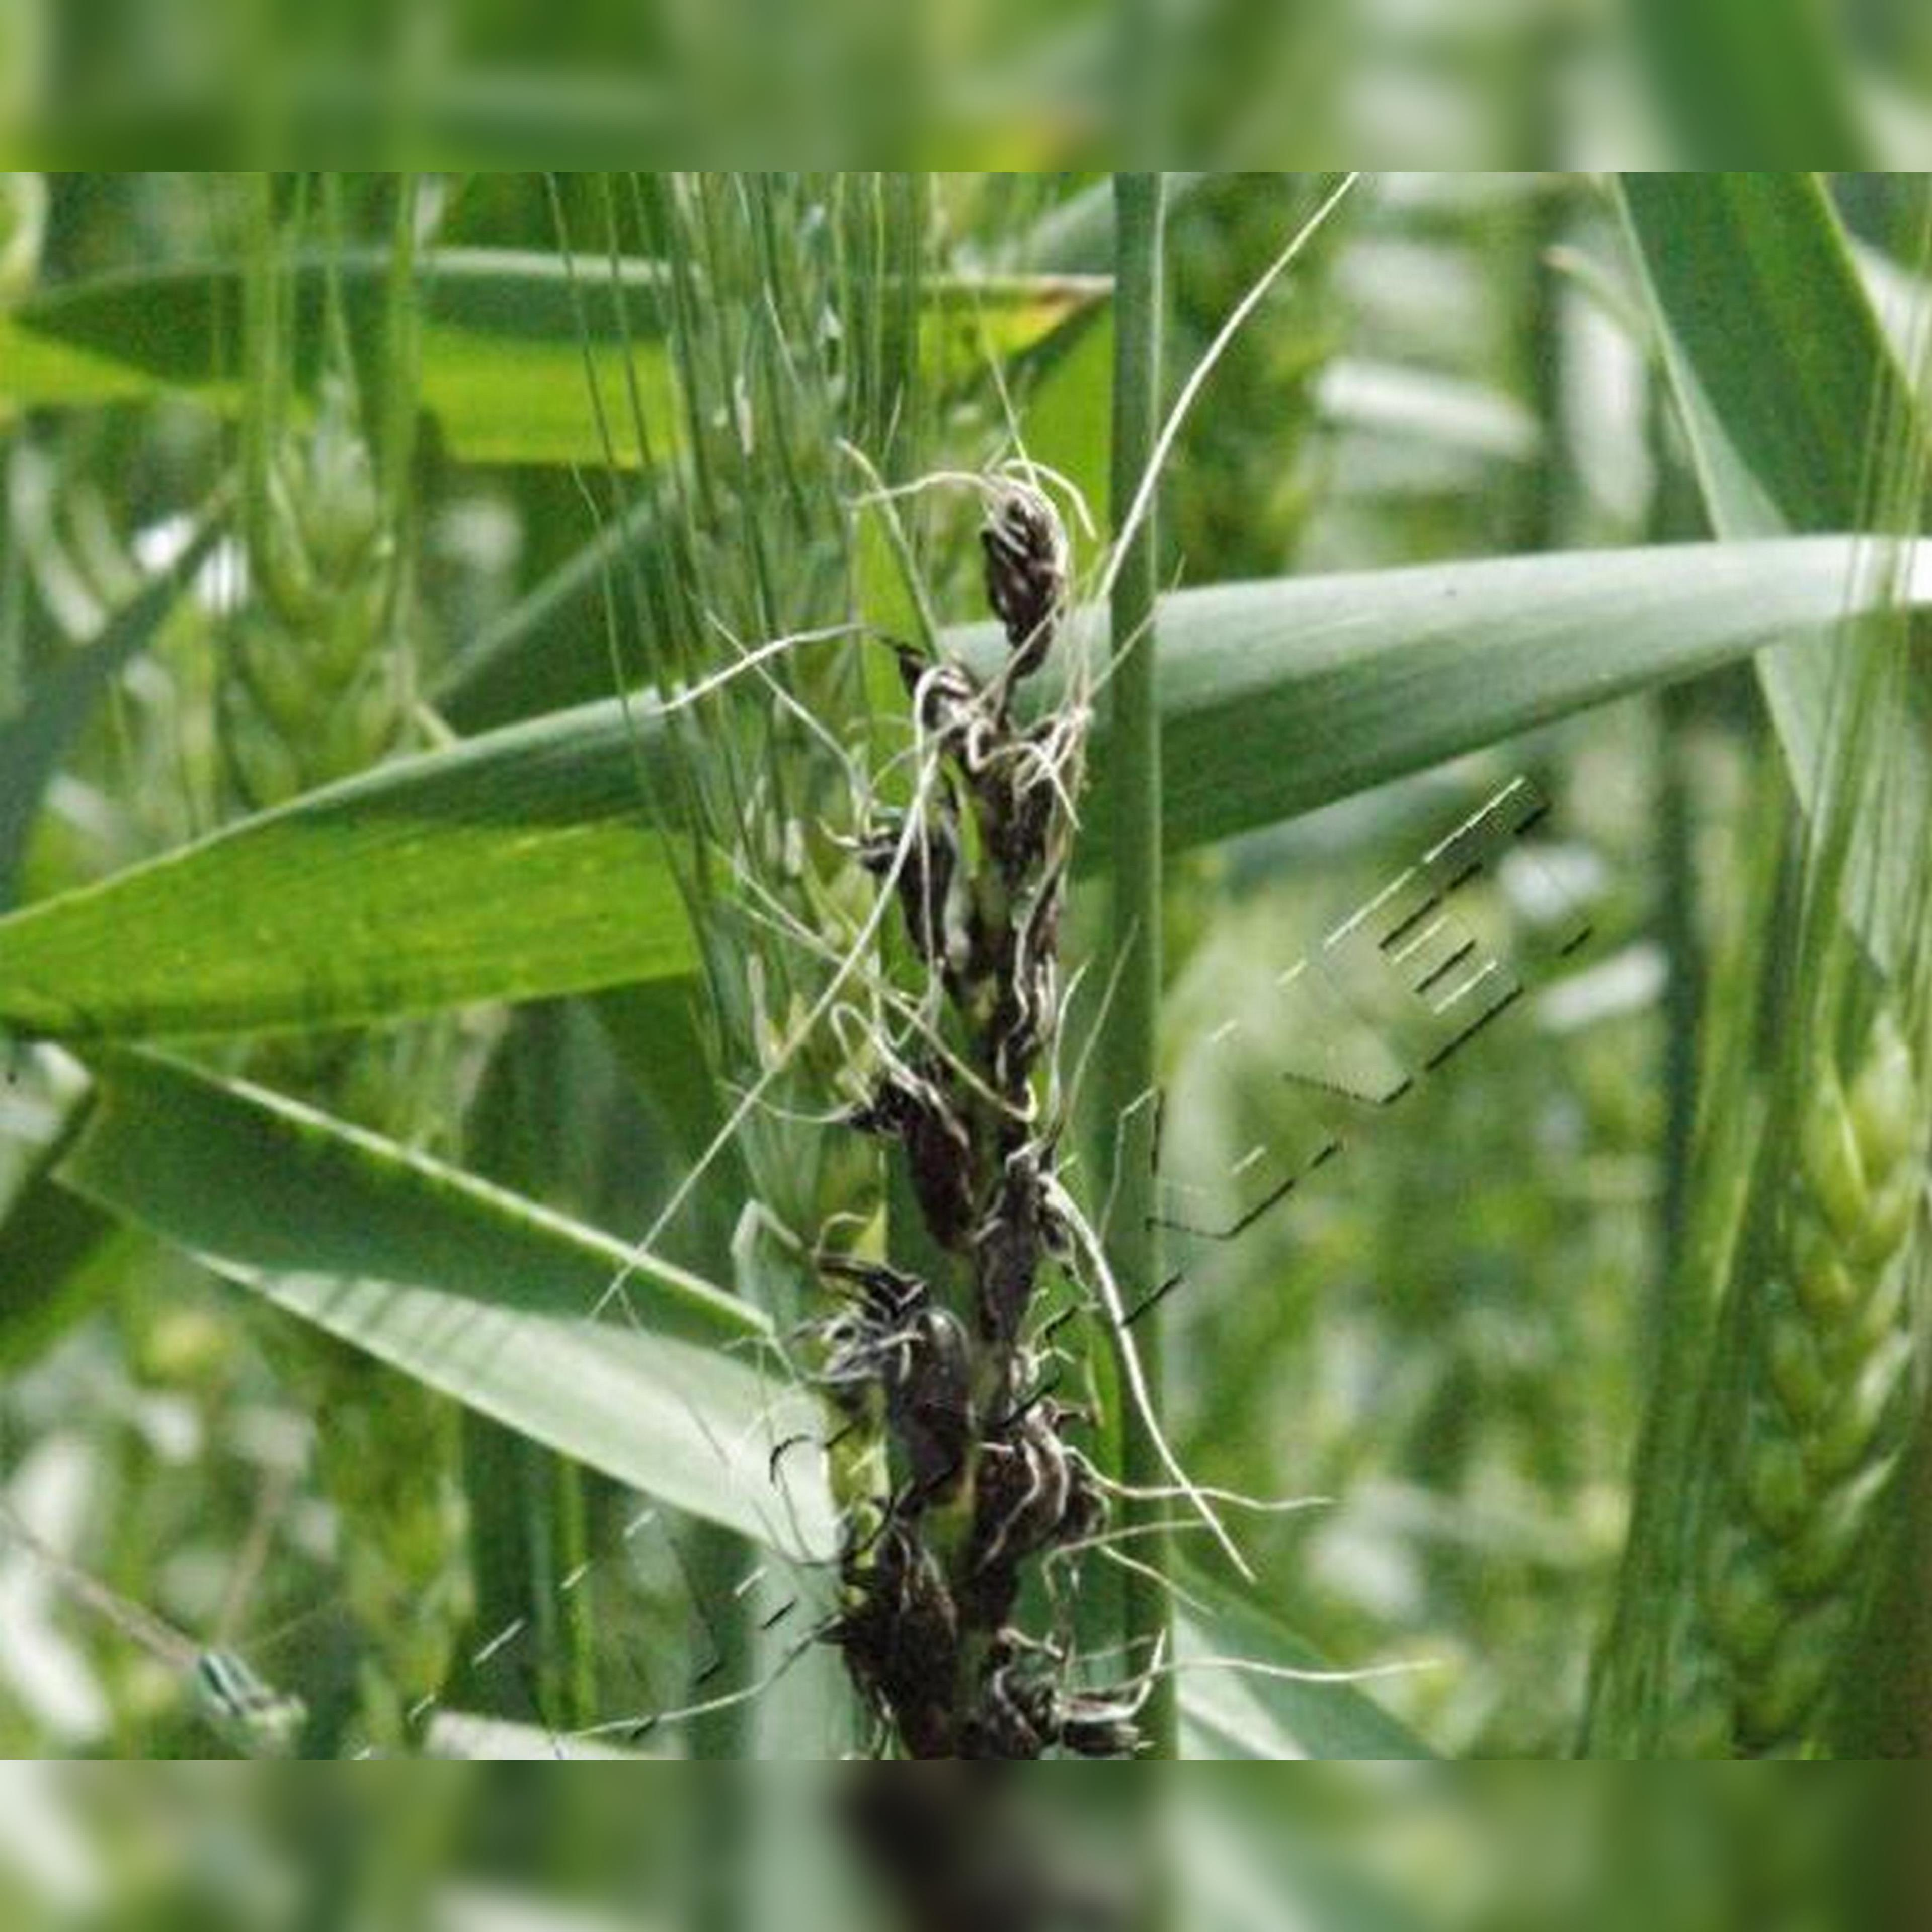Wheat Loose Smut: (801, 409, 1139, 1766)
